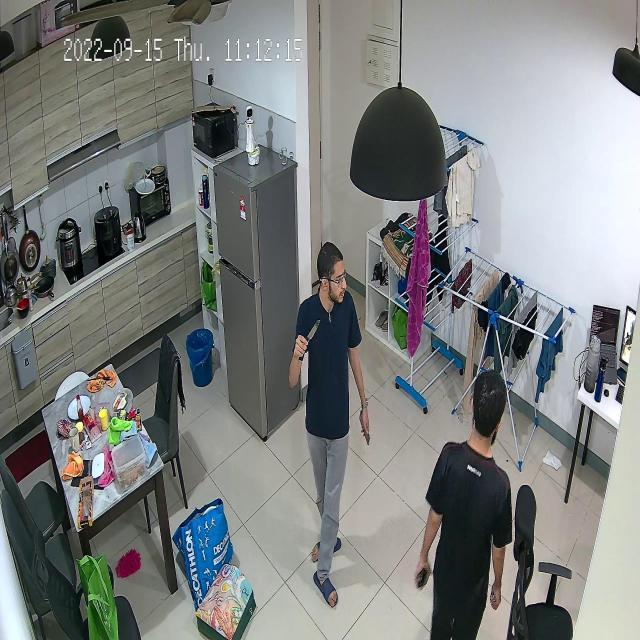Knife: (296, 318, 326, 358)
